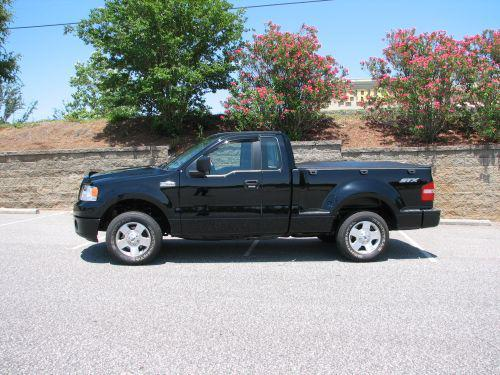Car: (62, 106, 459, 270)
